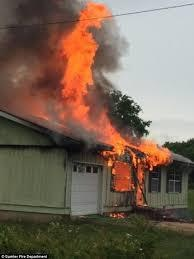fire: (41, 0, 118, 139)
